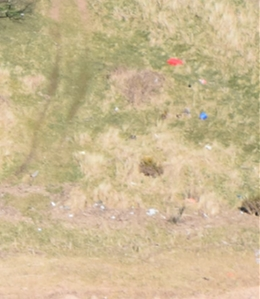scattered_barrel: (156, 51, 220, 122)
